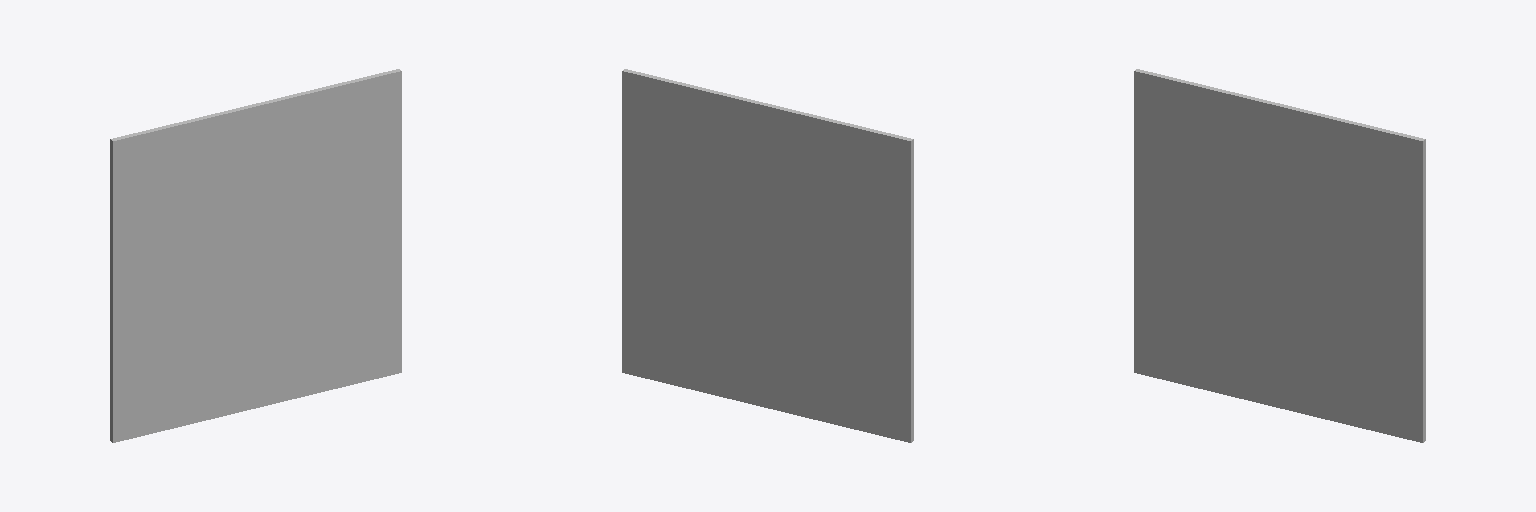
File: Wall.obj
The picture shows the model from 3 angles: view 1: azimuth 30°, elevation 25°; view 2: azimuth 150°, elevation 25°; view 3: azimuth 330°, elevation 25°; orthographic projection.
Visible parts, largest first — view 1: ObjObject; view 2: ObjObject; view 3: ObjObject.
Part boxes in pixels (x1,y1,x2,y2): ObjObject: (110, 69, 401, 442); ObjObject: (622, 69, 913, 442); ObjObject: (1134, 69, 1425, 442).
Bounding box in the file's own units: 5.5 × 5.5 × 0.1.